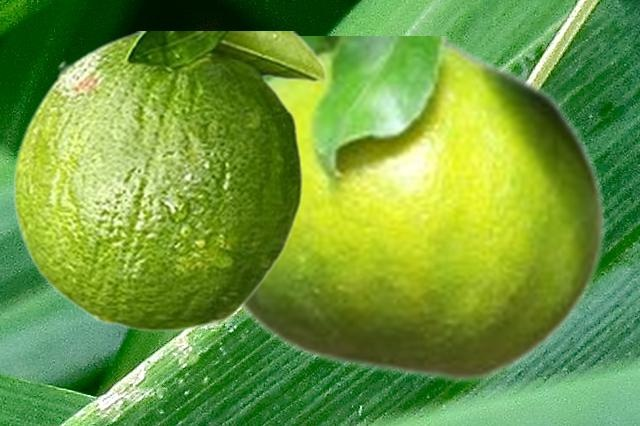dalandan: (239, 36, 607, 383), (12, 31, 327, 331)
